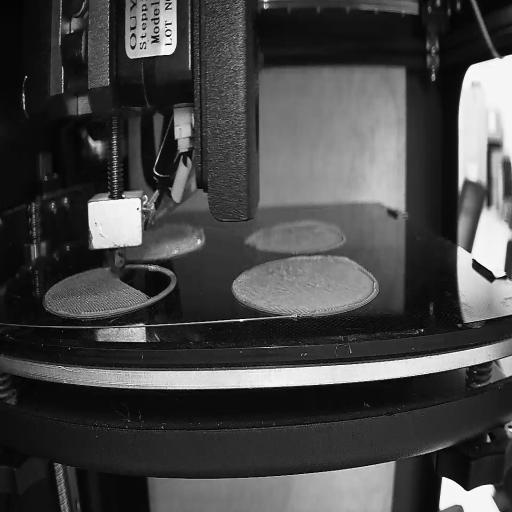over_extrusion: (358, 261, 380, 308)
